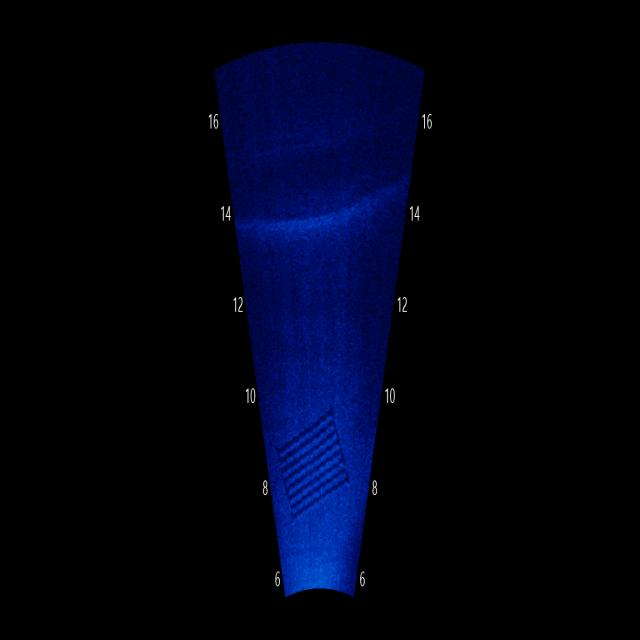square: (274, 394, 358, 530)
